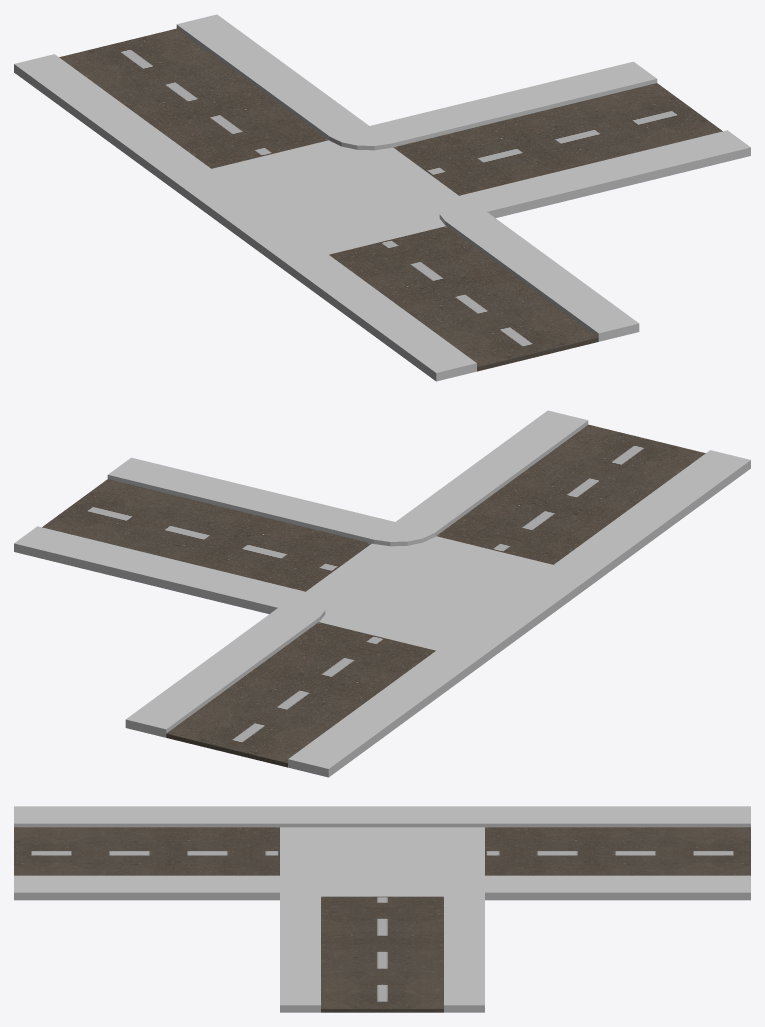
The model's file is T_Intersection.obj.
3 views of the same model, one above another, from view 1: azimuth 30°, elevation 25°; view 2: azimuth 150°, elevation 25°; view 3: azimuth 270°, elevation 25° (orthographic). The views are drawn at different scales.
Parts seen in each view (by area): view 1: T_Intersection; view 2: T_Intersection; view 3: T_Intersection.
Part boxes in pixels (box(x1,y1,x2,y2)): T_Intersection: box(14, 14, 750, 381); T_Intersection: box(14, 410, 750, 777); T_Intersection: box(14, 806, 750, 1012).
Size of the model in its own units: 23 by 0.4 by 36.
